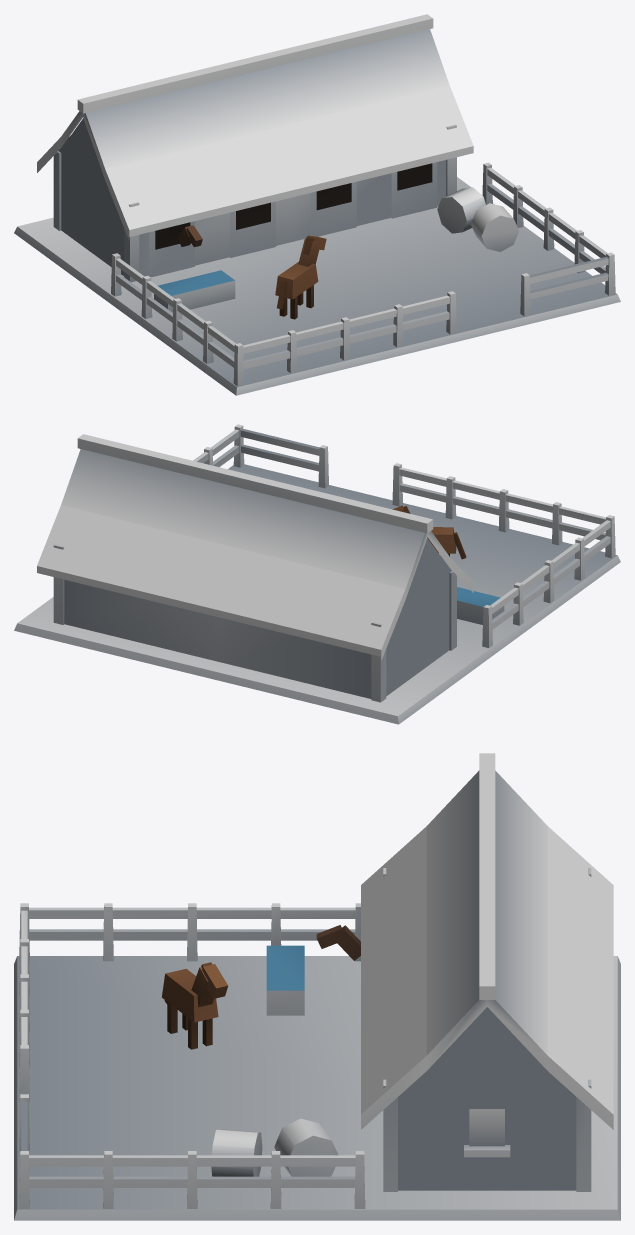
File: stable_t1.glb
The picture shows the model from 3 angles, top to bottom: view 1: azimuth 30°, elevation 25°; view 2: azimuth 150°, elevation 25°; view 3: azimuth 270°, elevation 25°; orthographic projection. The views are drawn at different scales.
Visible parts, largest first — view 1: stable_t1; view 2: stable_t1; view 3: stable_t1.
Part boxes in pixels (x1=…): stable_t1: x1=14, y1=14, x2=620, y2=395; stable_t1: x1=14, y1=424, x2=620, y2=724; stable_t1: x1=14, y1=753, x2=620, y2=1220.
Bounding box in the file's own units: 2.86 × 1.16 × 2.86.
